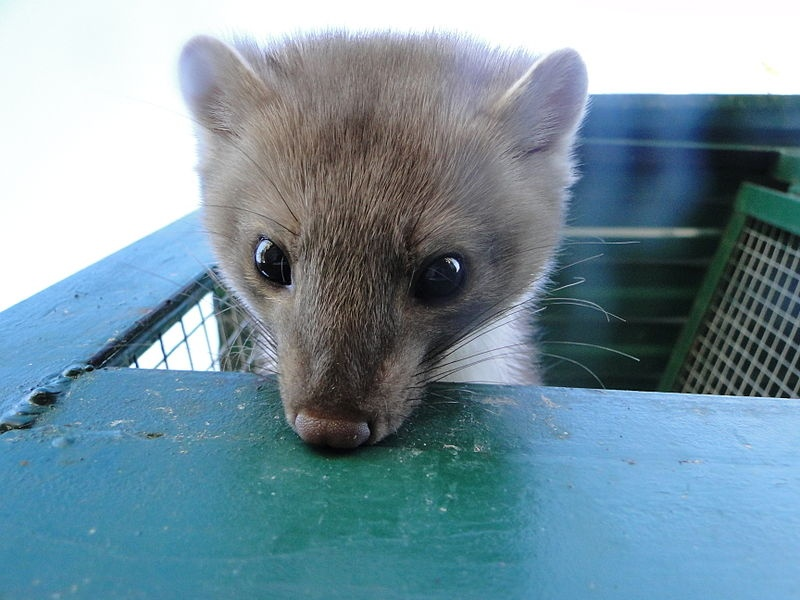minkish: (177, 32, 592, 462)
